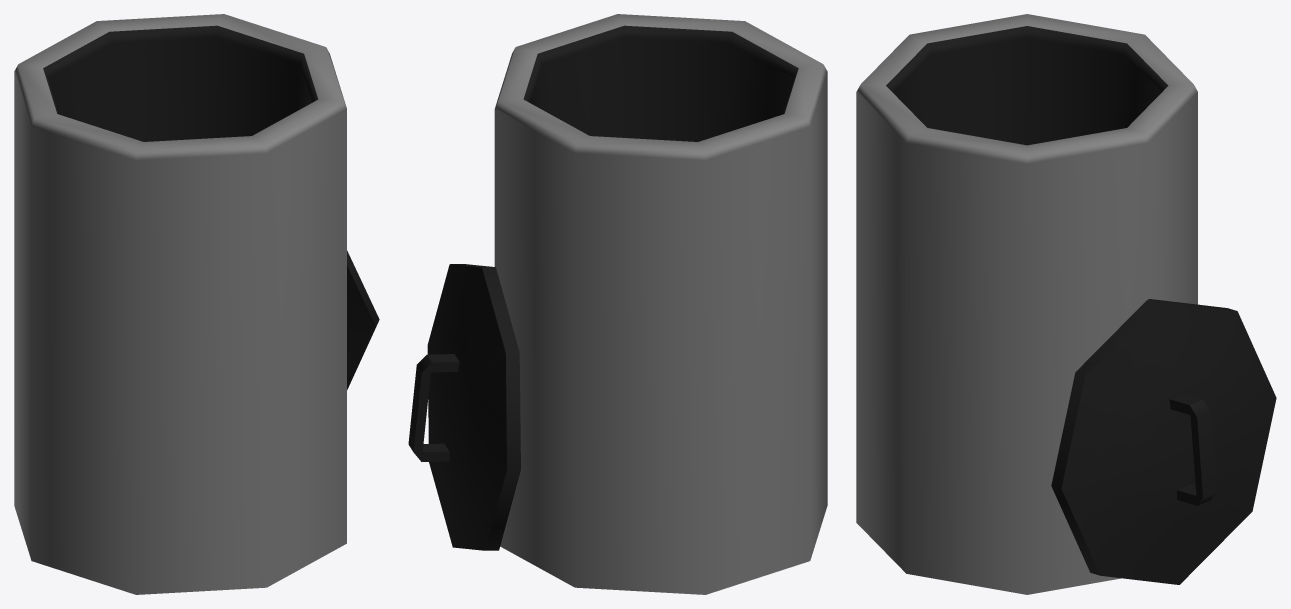
Rendered from SM_RubbishBin.fbx.
The picture shows the model from 3 angles, left to right: view 1: azimuth 30°, elevation 25°; view 2: azimuth 150°, elevation 25°; view 3: azimuth 270°, elevation 25°; orthographic projection.
Visible parts, largest first — view 1: SM_RubbishBin; view 2: SM_RubbishBin; view 3: SM_RubbishBin.
Boxes of the visible parts, <box> form: SM_RubbishBin: <box>14,14,379,594</box>; SM_RubbishBin: <box>408,14,827,594</box>; SM_RubbishBin: <box>856,14,1276,594</box>.
Bounding box in the file's own units: 82.1 × 94.92 × 82.46.
